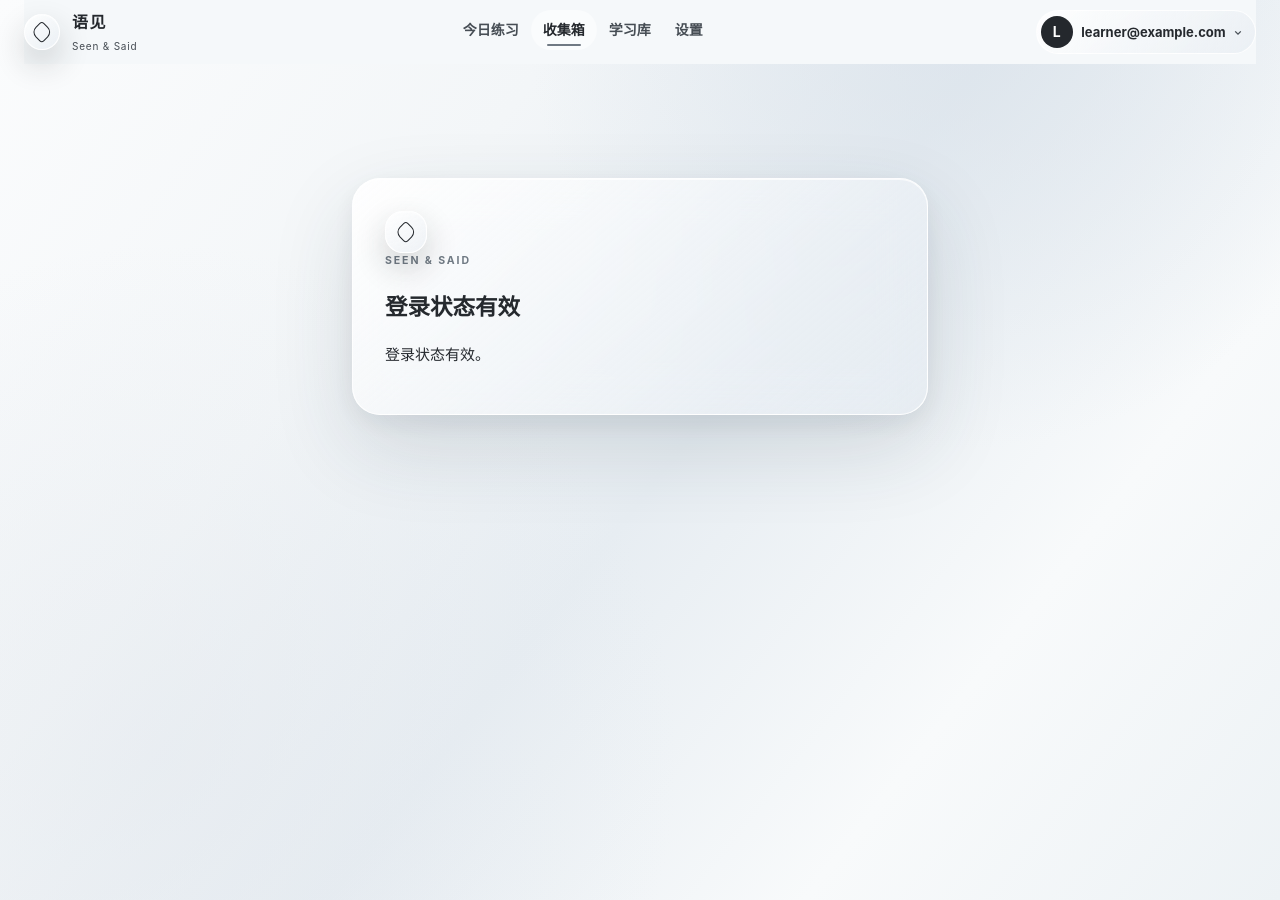
Scenario: workspace account menu › keeps the workspace while logout is pending or fails, then clears it after a proven logout
This screenshot has width=1280, height=900.
Click the button with class "workspace-account-trigger" at (1146, 32), box [1036,10,1256,54]
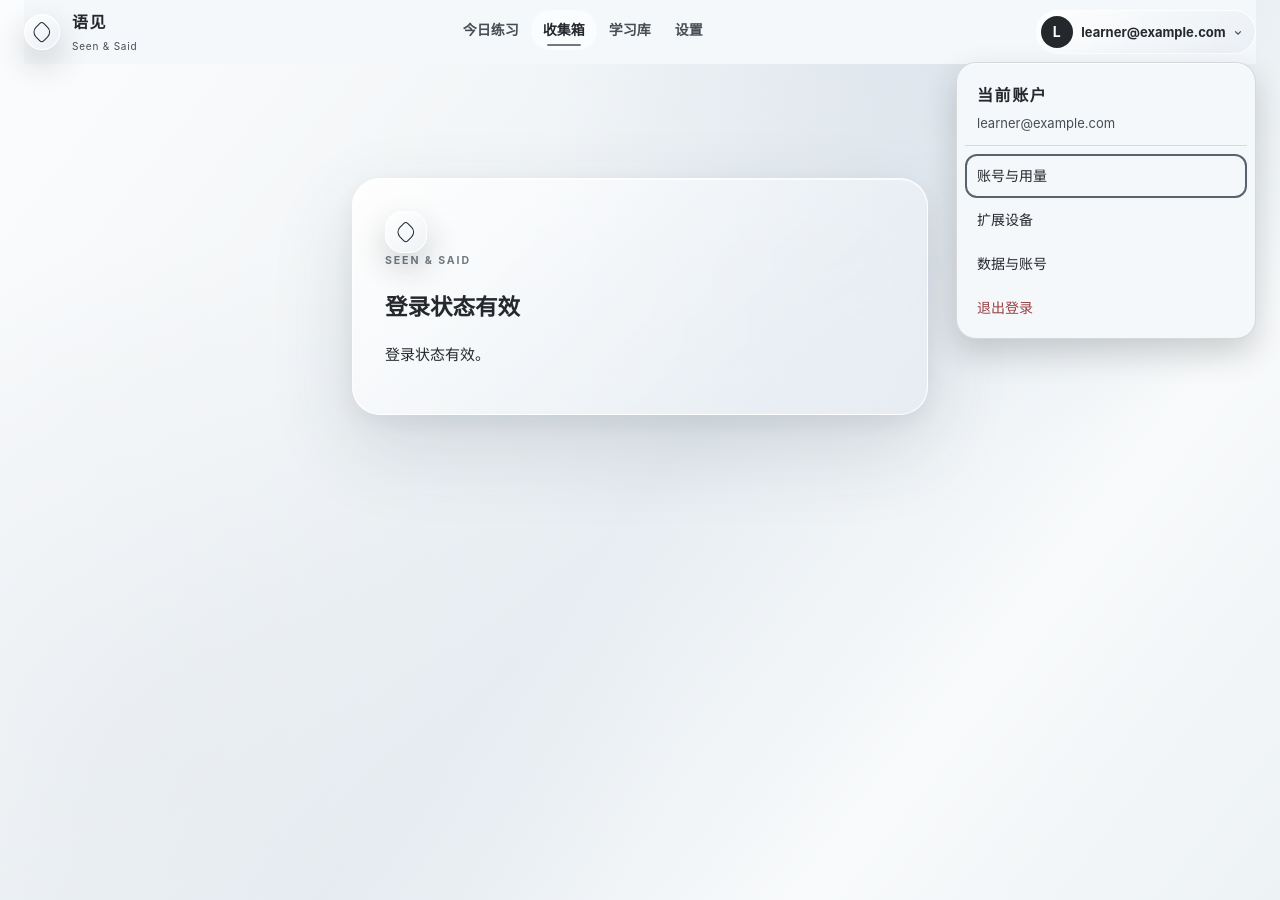
Click the menu item "退出登录" at (1005, 308), box [965,286,1247,330]
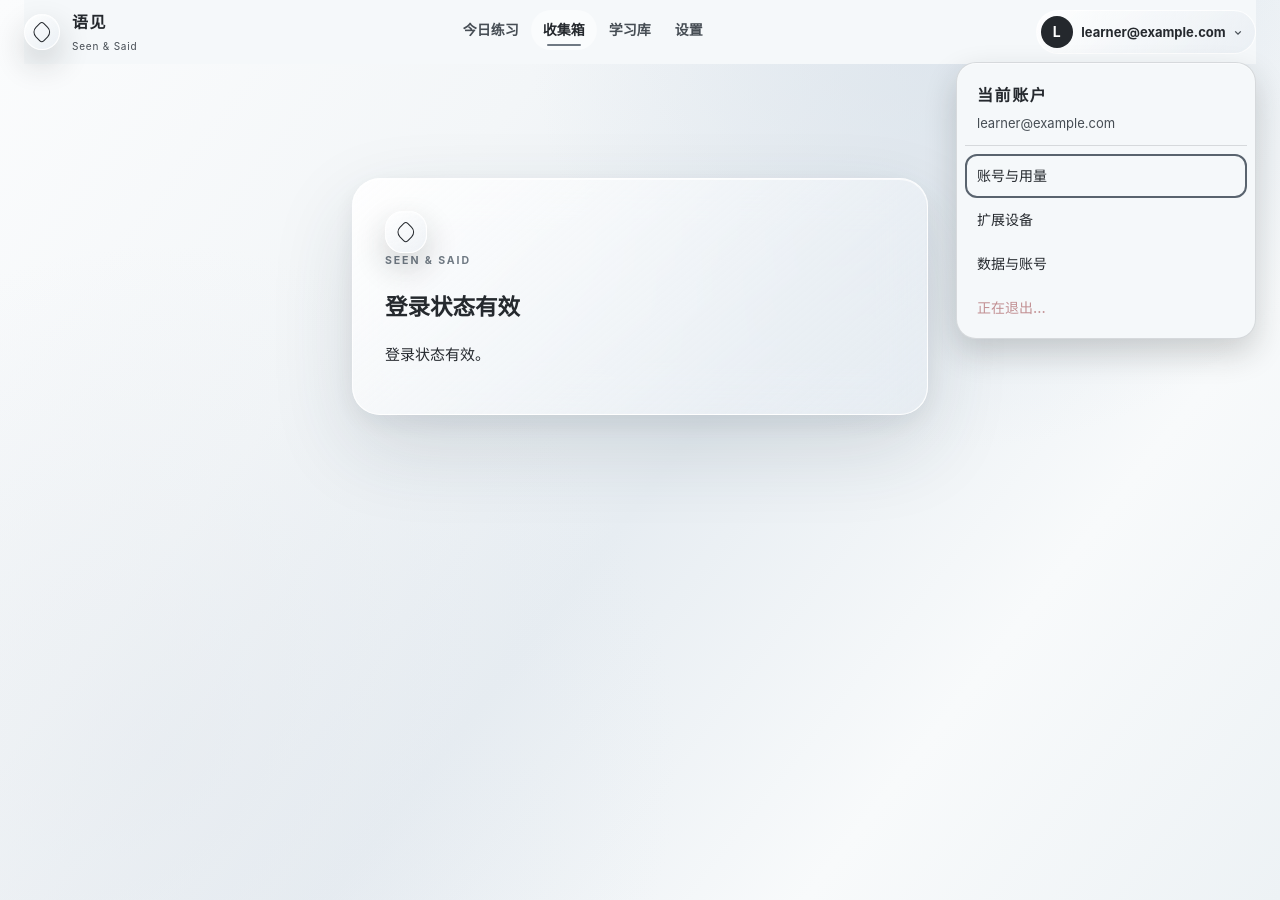
Check: the navigation bar named "主导航" is shown, box [149,10,1016,50]
Check: the menu item "正在退出…" is disabled
Check: the menu item "正在退出…" is shown
Click the menu item "正在退出…" at (1011, 308), box [965,286,1247,330]
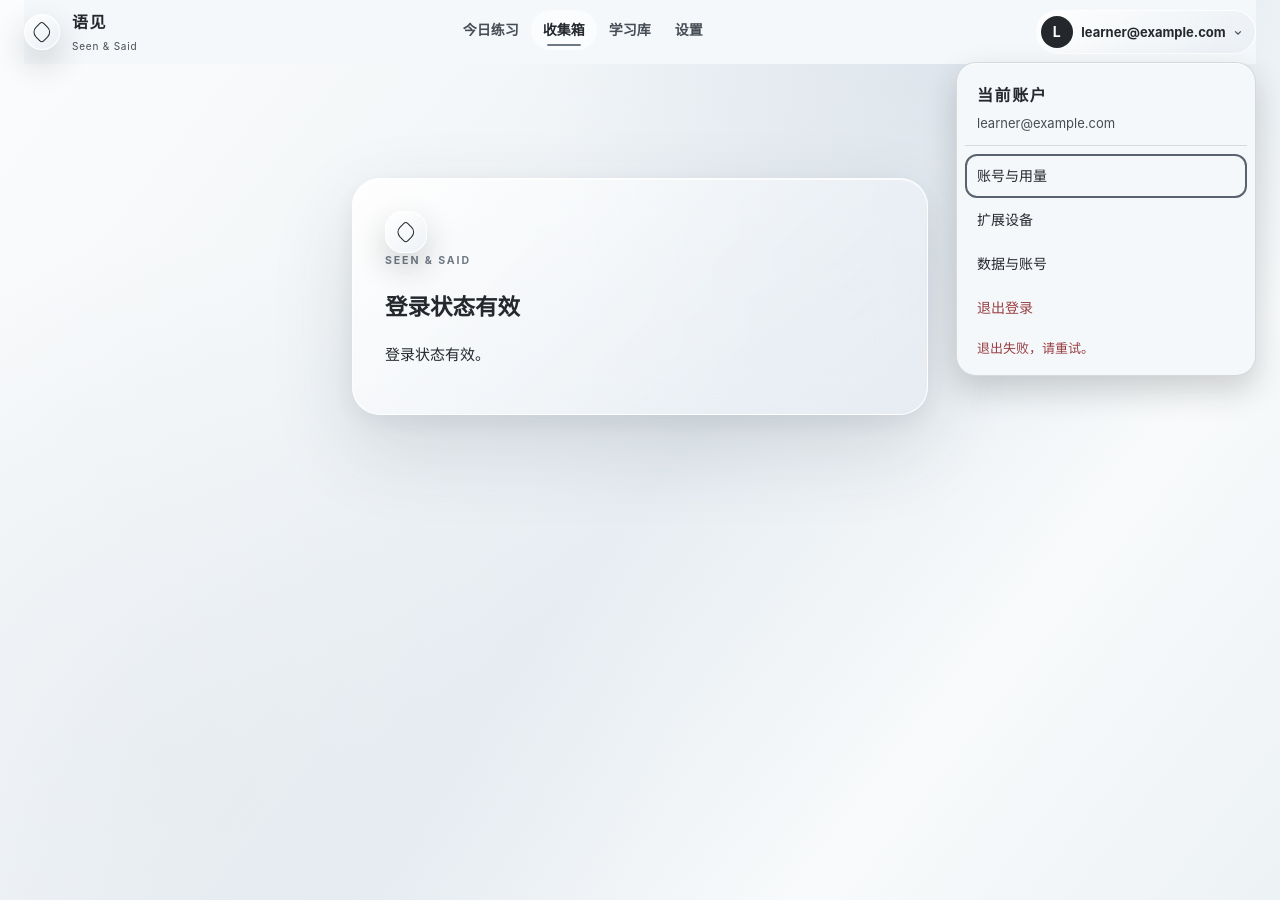
Check: the header with class "topbar" shows "learner@example.com", box [1036,10,1256,54]
Check: the message "退出失败，请重试。" is shown, box [977,340,1094,356]
Click the menu item "退出登录" at (1005, 308), box [965,286,1247,330]
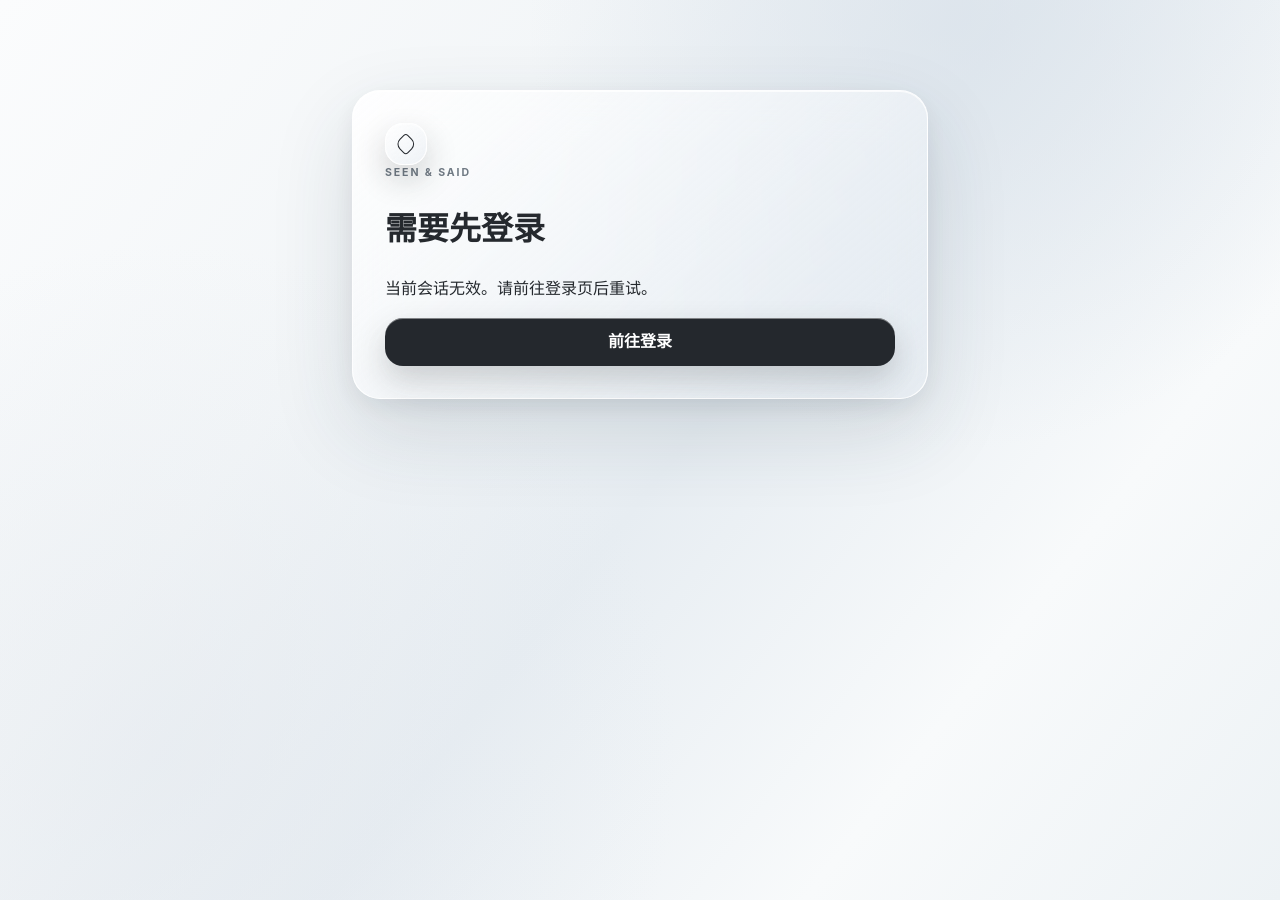
Check: the heading "需要先登录" is shown, box [385,209,545,248]
Check: the header with class "topbar" is gone
